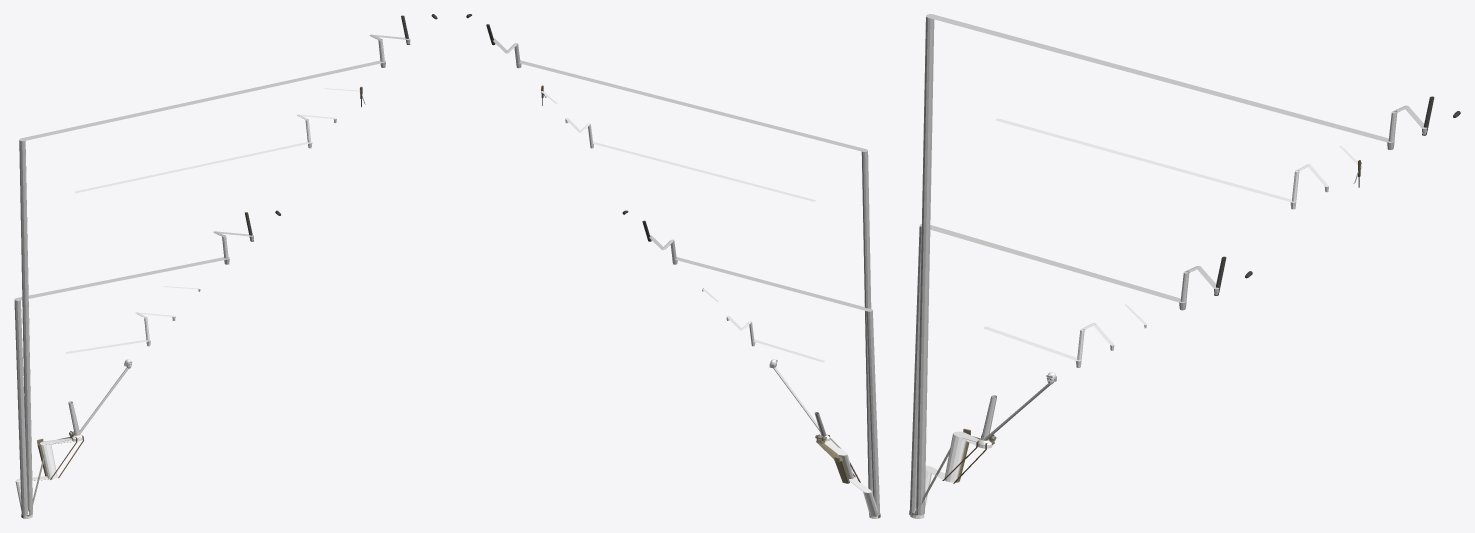
The model's file is walker.glb.
3 renders of one model, left to right at view 1: azimuth 30°, elevation 25°; view 2: azimuth 150°, elevation 25°; view 3: azimuth 330°, elevation 25°, orthographic. The views are drawn at different scales.
Visible parts, largest first — view 1: survivor; view 2: survivor; view 3: survivor.
Part boxes in pixels (x1,y1,x2,y2): survivor: (14,14,437,518); survivor: (466,14,880,518); survivor: (909,14,1460,518).
Bounding box in the file's own units: 16.36 × 15.27 × 1.24.
